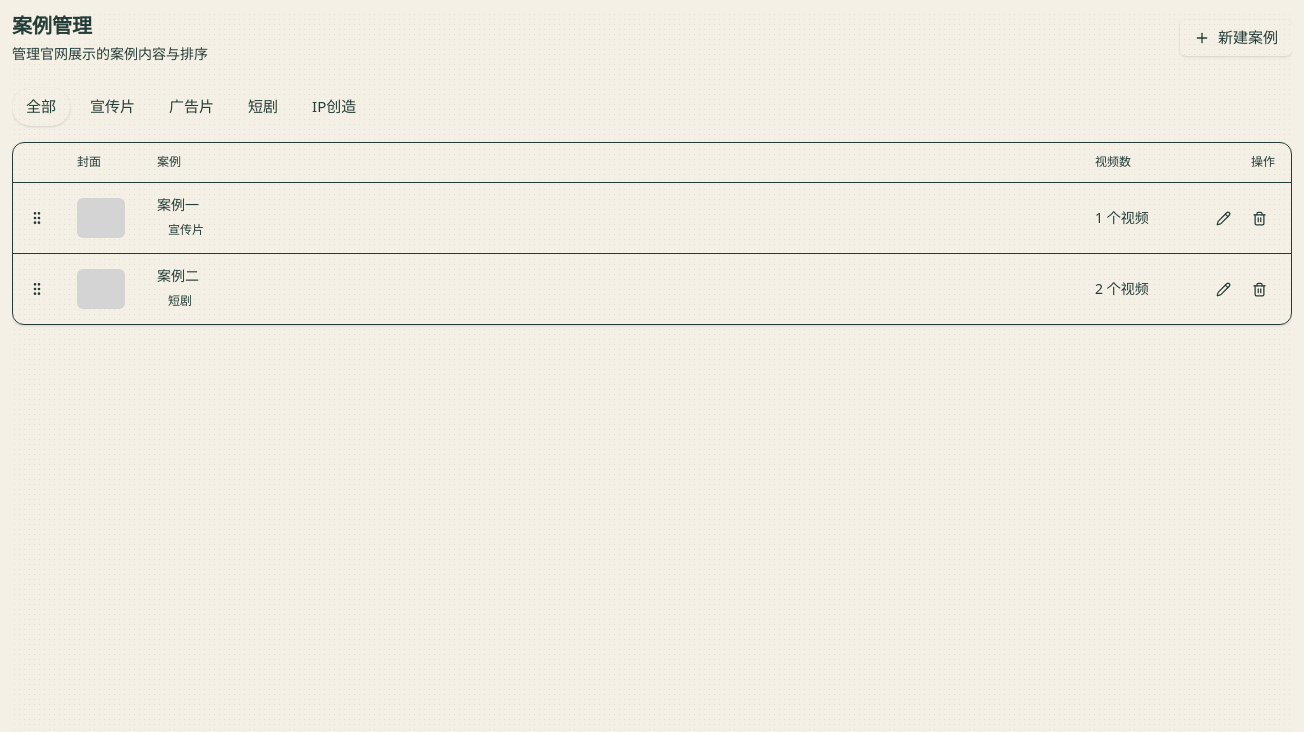
it: filters the list by category tab
The width and height of the screenshot is (1304, 732).
Check: the text "案例一" is shown, box [157,195,199,214]
Click the button "短剧" at x=263, y=107, box [234,88,292,126]
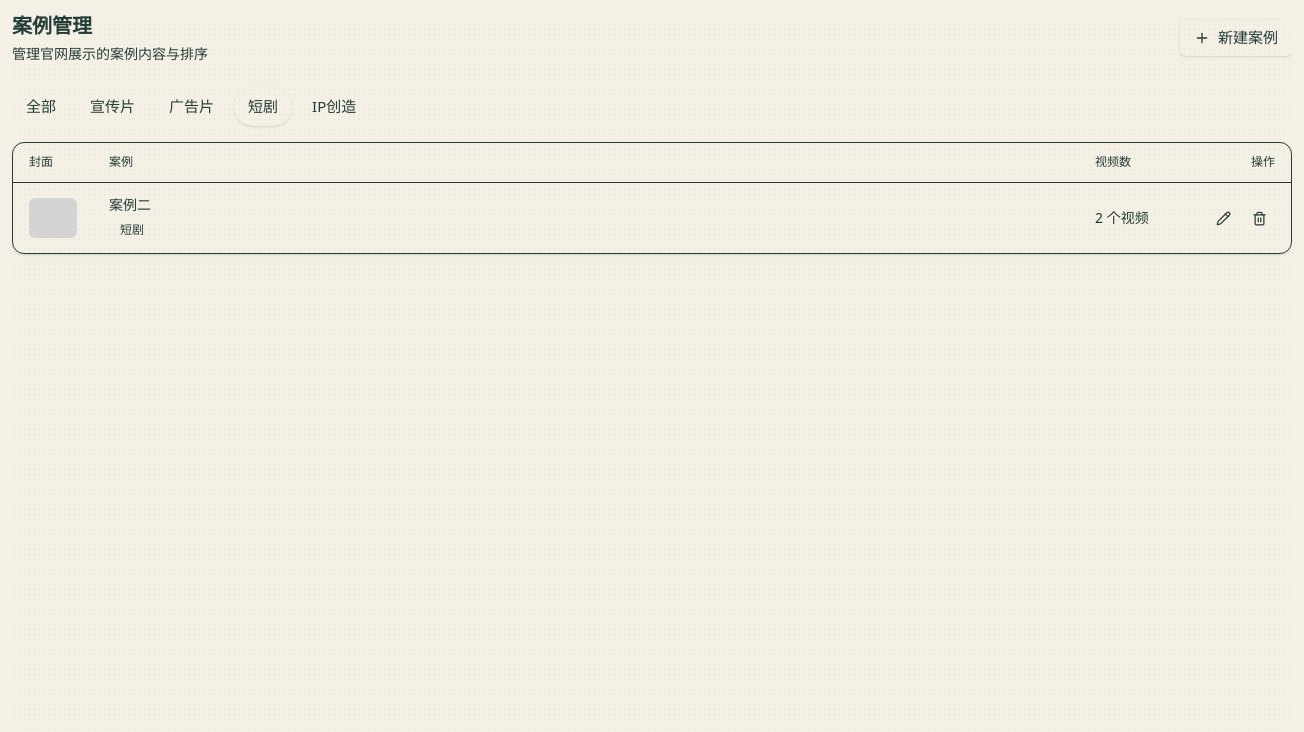
Check: the text "案例二" is shown, box [109,195,151,214]
Check: the text "案例一" is gone
